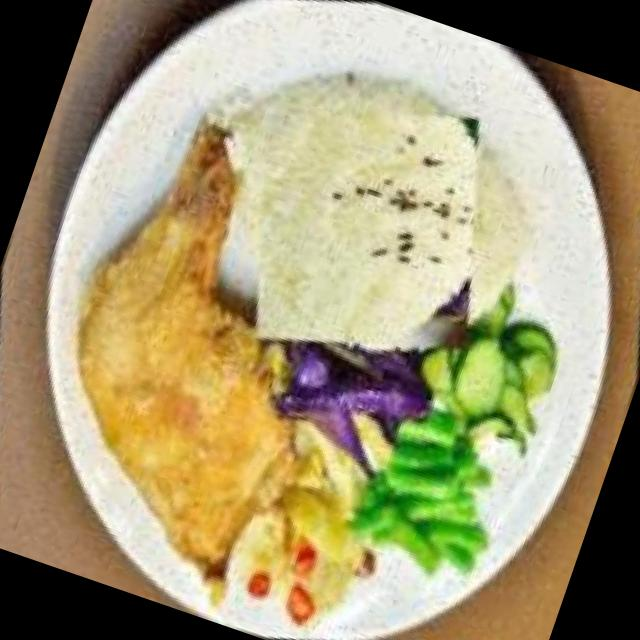rice: (192, 53, 544, 406)
